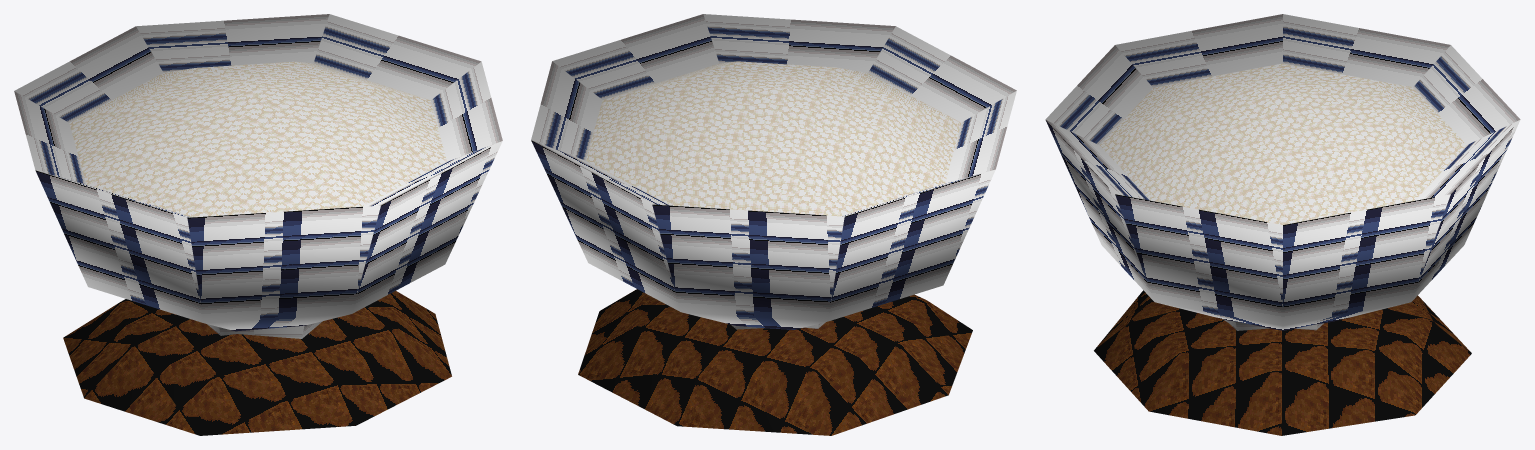
The model's file is 1162ucc_mis_don0.gltf.
3 views of the same model, side by side, from view 1: azimuth 30°, elevation 25°; view 2: azimuth 150°, elevation 25°; view 3: azimuth 270°, elevation 25° (orthographic). The views are drawn at different scales.
Parts seen in each view (by area): view 1: 1162ucc_mis_don0; view 2: 1162ucc_mis_don0; view 3: 1162ucc_mis_don0.
Part boxes in pixels (x1,y1,x2,y2): 1162ucc_mis_don0: (14, 14, 502, 435); 1162ucc_mis_don0: (531, 14, 1016, 435); 1162ucc_mis_don0: (1045, 14, 1520, 435).
Bounding box in the file's own units: 0.7798 × 0.4463 × 0.7417.
5 materials, 5 textured.
